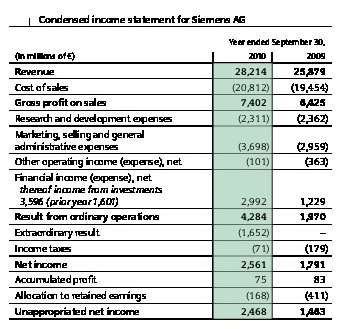table: (0, 0, 351, 329)
